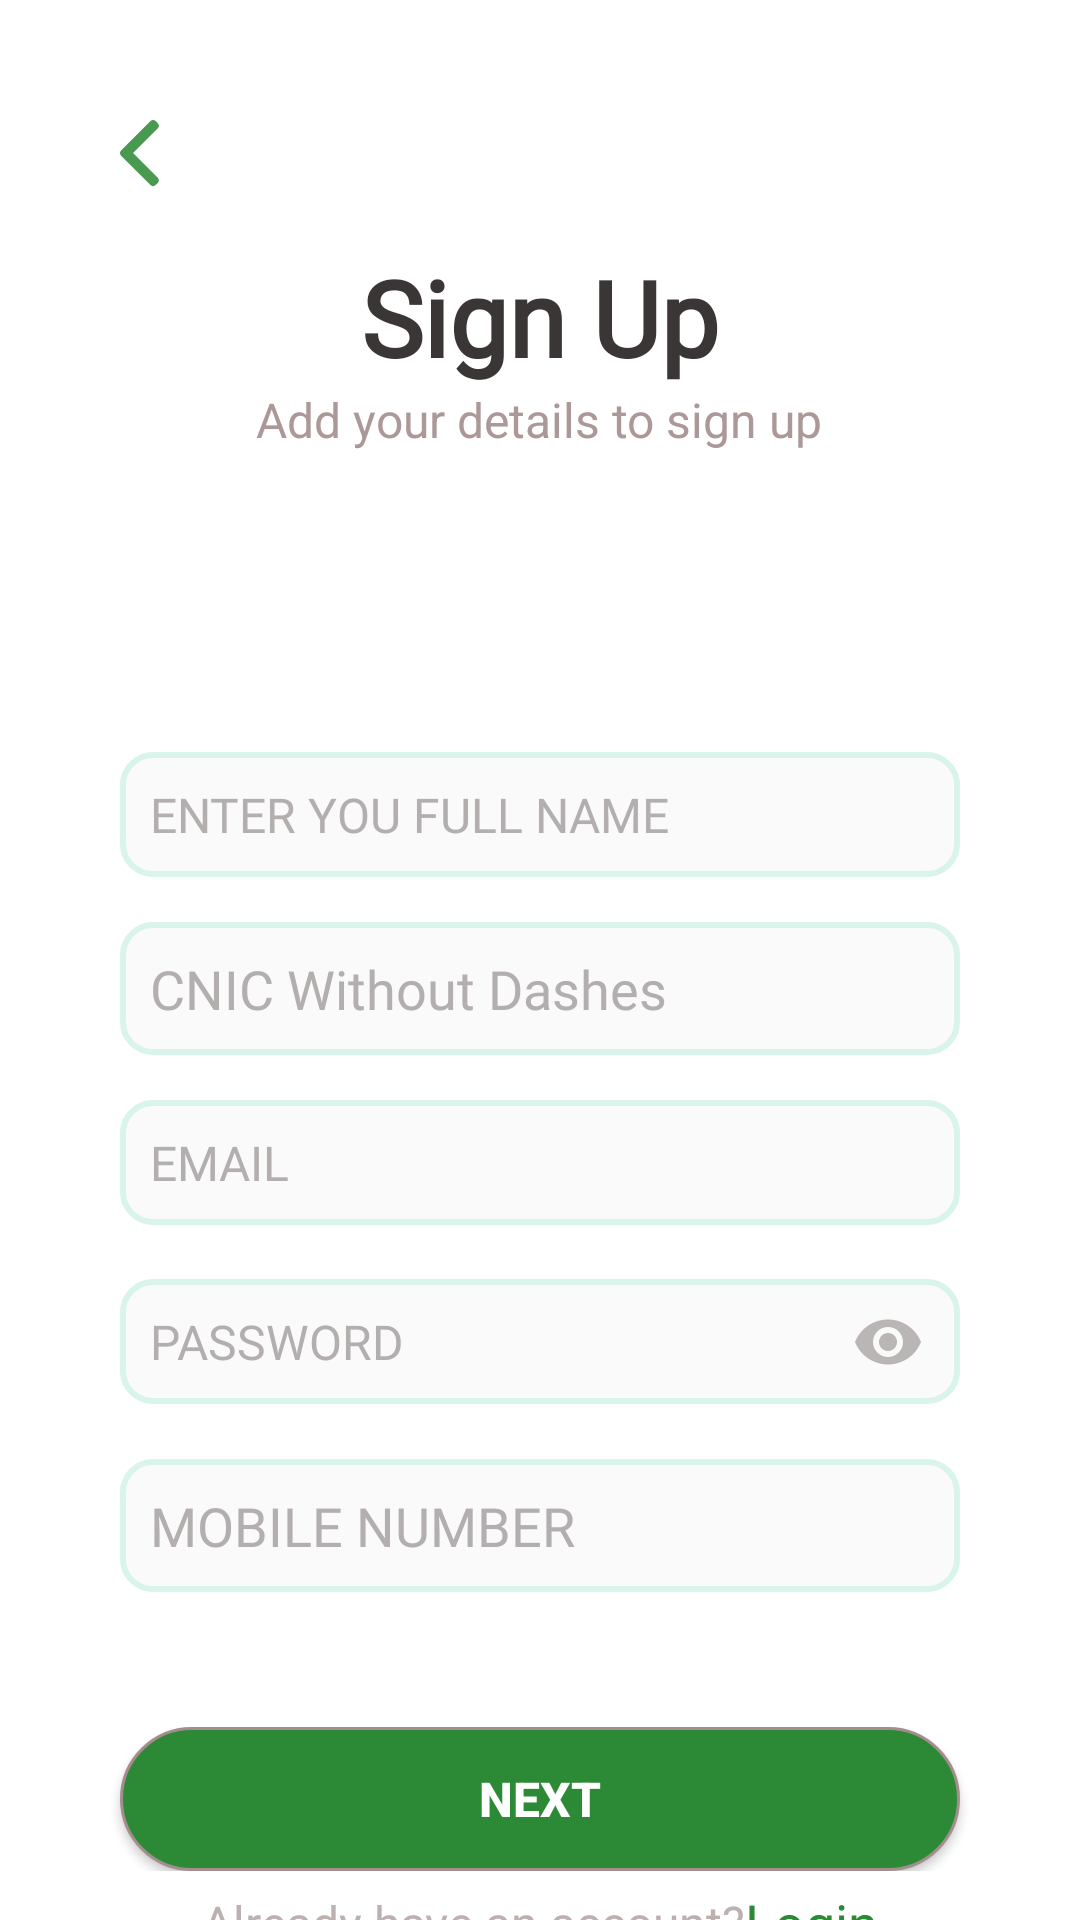

Locate icon controls on the screen. Image size 1080 × 1920, boxes as (x1,y1,x2,y2).
arrow: (120,120,159,186)
